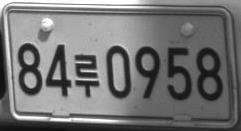0: (105, 44, 131, 98)
4: (45, 43, 71, 96)
5: (167, 47, 192, 100)
8: (195, 46, 223, 101), (16, 42, 43, 96)
9: (134, 45, 160, 98)
루: (74, 53, 99, 97)
